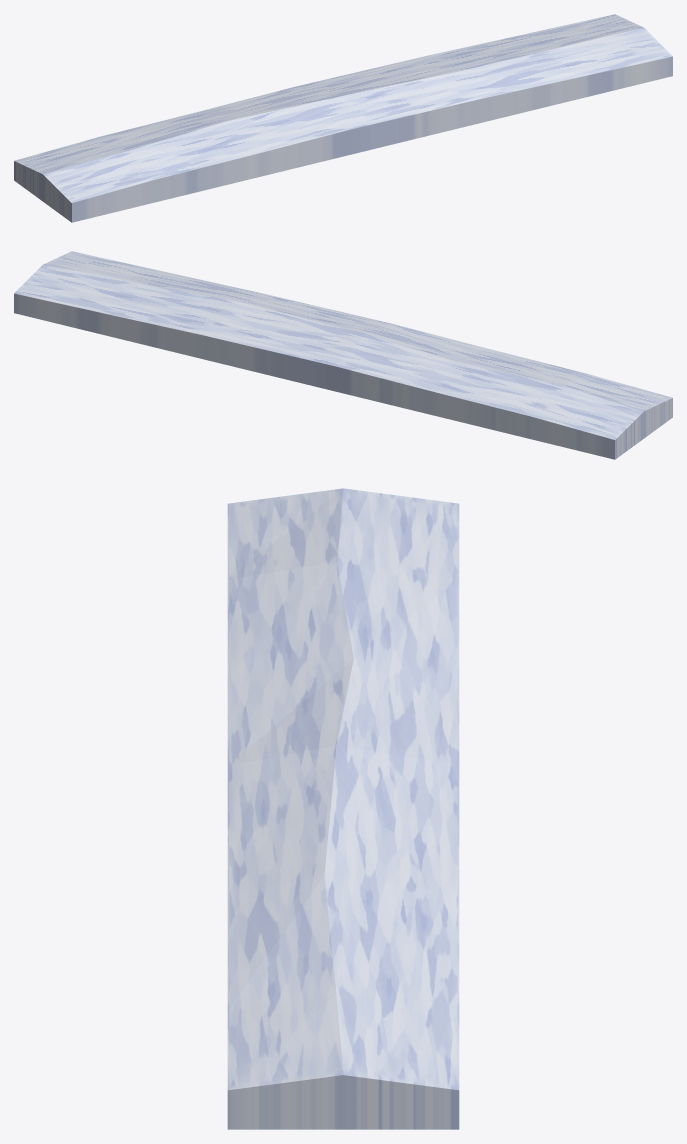
Rendered from snow_porch_edge.glb.
3 views of the same model, one above another, from view 1: azimuth 30°, elevation 25°; view 2: azimuth 150°, elevation 25°; view 3: azimuth 270°, elevation 25° (orthographic). The views are drawn at different scales.
Visible parts, largest first — view 1: winter_snow_porch_edge; view 2: winter_snow_porch_edge; view 3: winter_snow_porch_edge.
Boxes of the visible parts, box(x1,y1,x2,y2) form: winter_snow_porch_edge: box(14, 14, 672, 222); winter_snow_porch_edge: box(14, 251, 672, 459); winter_snow_porch_edge: box(227, 488, 459, 1129).
Bounding box in the file's own units: 1.8 × 0.1 × 0.3.
Materials: 1 (1 with a texture image).
